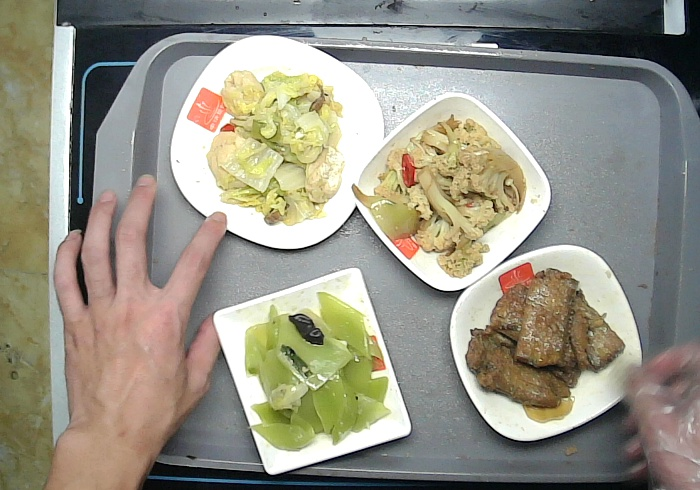SHKJ-Bai_Se_Cai_Die: (447, 241, 646, 441)
SHKJ-Bai_Se_Si_Fang_Cai_Die: (168, 31, 388, 253)
SHKJ-Bai_Se_Xiao_Fang_Die: (352, 89, 553, 293)
SHKJ-Si_Fang_Min: (211, 266, 414, 478)
